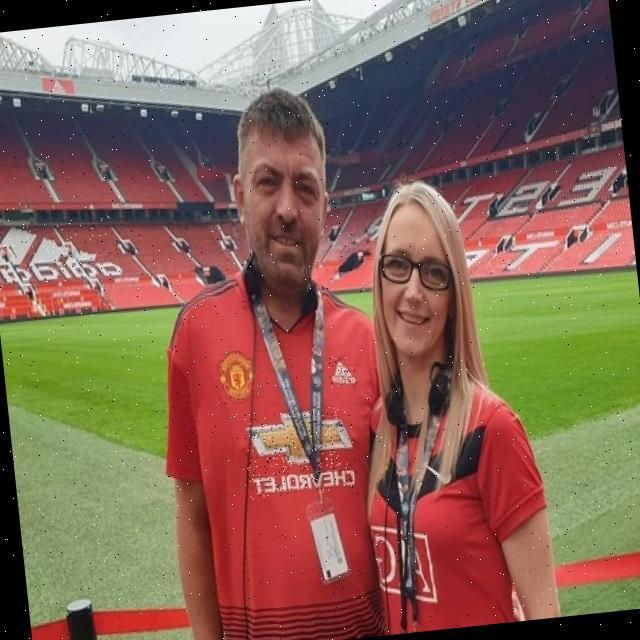Adidas: (0, 213, 122, 289), (327, 353, 358, 389)
Chevrolet: (242, 403, 358, 500)
